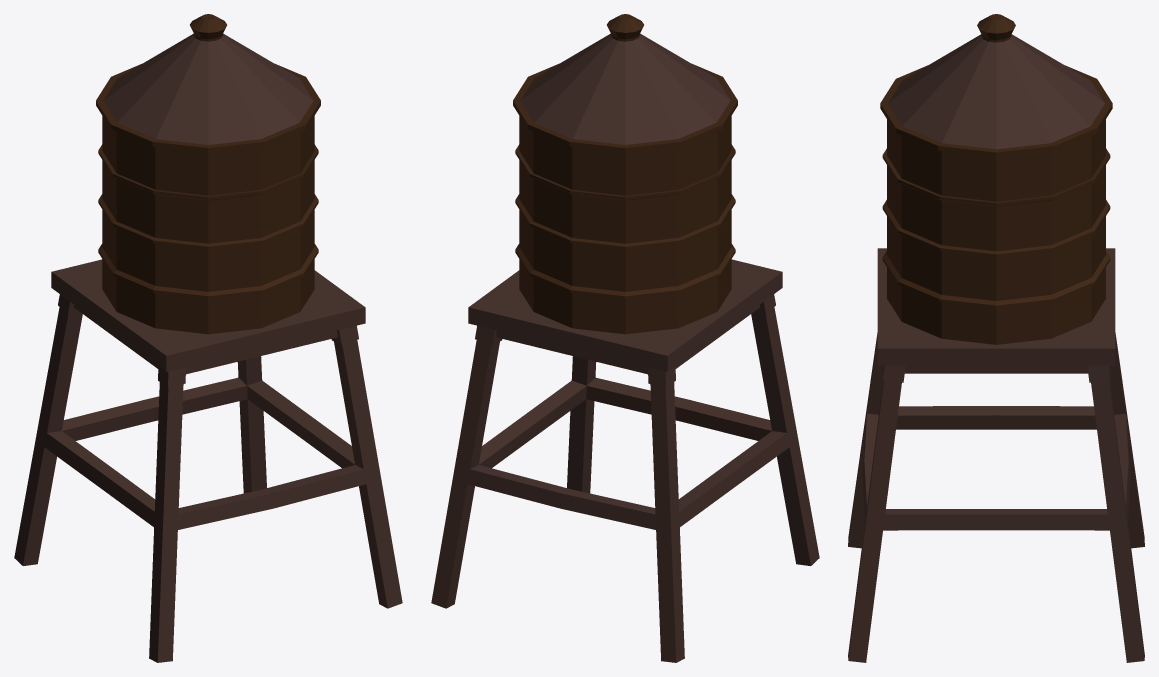
Rendered from watertank.glb.
3 views of the same model, side by side, from view 1: azimuth 30°, elevation 25°; view 2: azimuth 150°, elevation 25°; view 3: azimuth 270°, elevation 25° (orthographic). The views are drawn at different scales.
Parts seen in each view (by area): view 1: water_tank; view 2: water_tank; view 3: water_tank.
Boxes of the visible parts, x1=… form: water_tank: x1=14, y1=14, x2=402, y2=662; water_tank: x1=431, y1=14, x2=819, y2=662; water_tank: x1=848, y1=14, x2=1144, y2=662.
Bounding box in the file's own units: 2.67 × 5.9 × 2.71.
